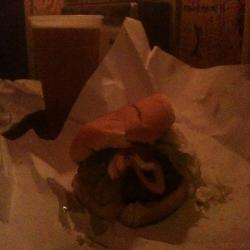burger: (71, 95, 200, 230)
